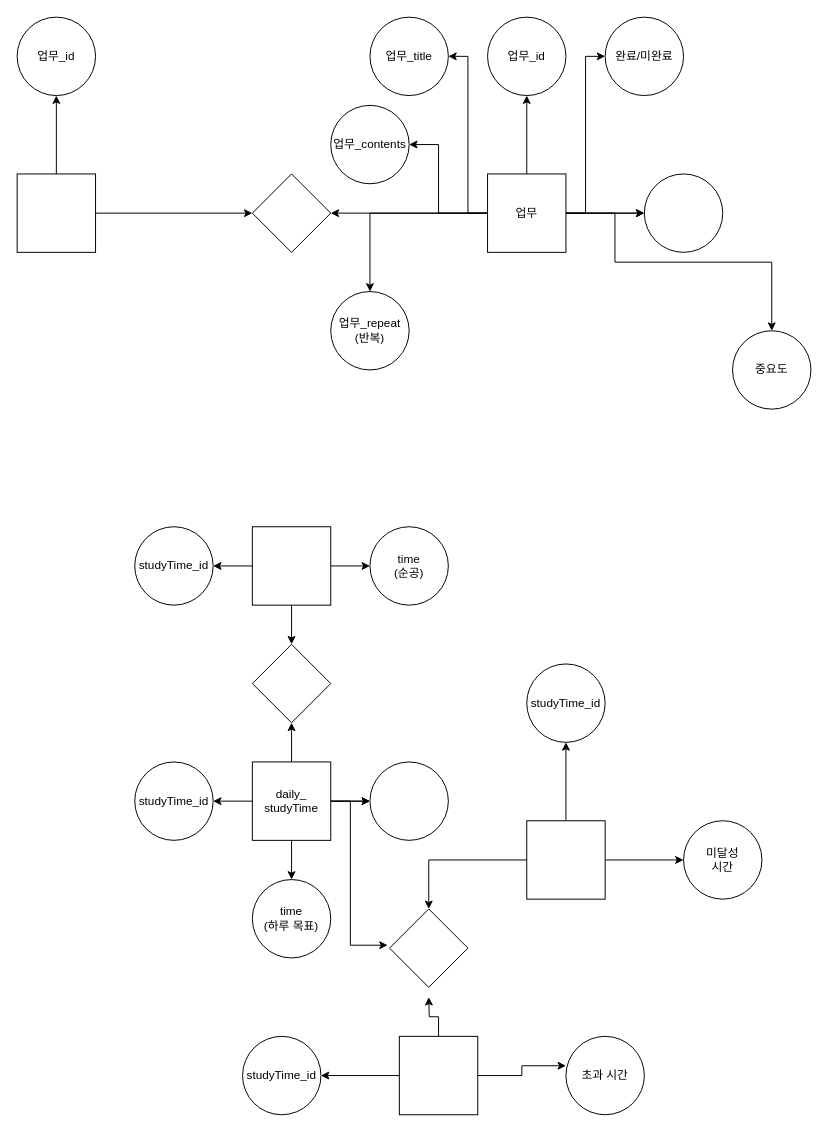
The diagram is 828 pixels wide and 1132 high, and some of its shapes have lost their labels. Here are the shapes that lost their labels. From the top down, the box of each, then its label:
(16, 173, 96, 252): 일정 리스트
(251, 173, 331, 252): 포함
(643, 173, 723, 252): 업무_date (기한)
(251, 526, 331, 605): study time 순공시간
(251, 643, 331, 723): 목표 달성 수식 계산
(369, 761, 448, 840): 생성 일자
(526, 820, 605, 899): 미달성
(389, 908, 468, 987): 달성 미달성 여부
(398, 1035, 478, 1115): 달성
